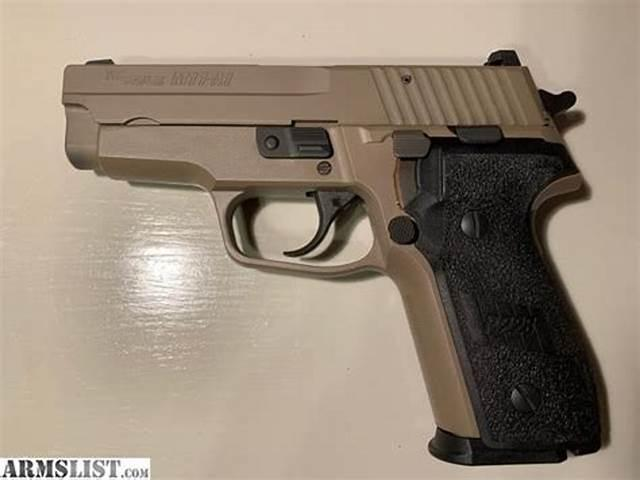handgun: (56, 46, 614, 468)
